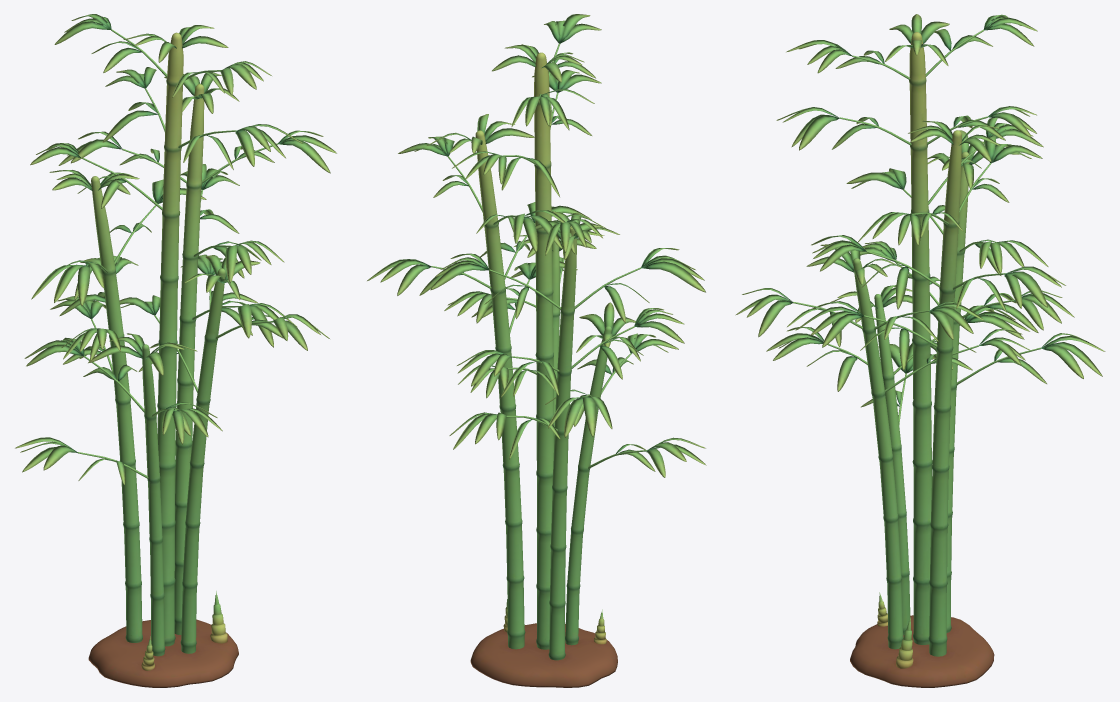
File: bamboo.glb
The picture shows the model from 3 angles, left to right: view 1: azimuth 30°, elevation 25°; view 2: azimuth 150°, elevation 25°; view 3: azimuth 270°, elevation 25°; orthographic projection. The views are drawn at different scales.
Visible parts, largest first — view 1: bamboo-stalk_body; view 2: bamboo-stalk_body; view 3: bamboo-stalk_body.
Part boxes in pixels (x1=…): bamboo-stalk_body: x1=15, y1=14, x2=336, y2=687; bamboo-stalk_body: x1=367, y1=14, x2=706, y2=687; bamboo-stalk_body: x1=735, y1=14, x2=1105, y2=687.
Bounding box in the file's own units: 1.11 × 2.14 × 1.14.
Materials: 1 (1 with a texture image).
